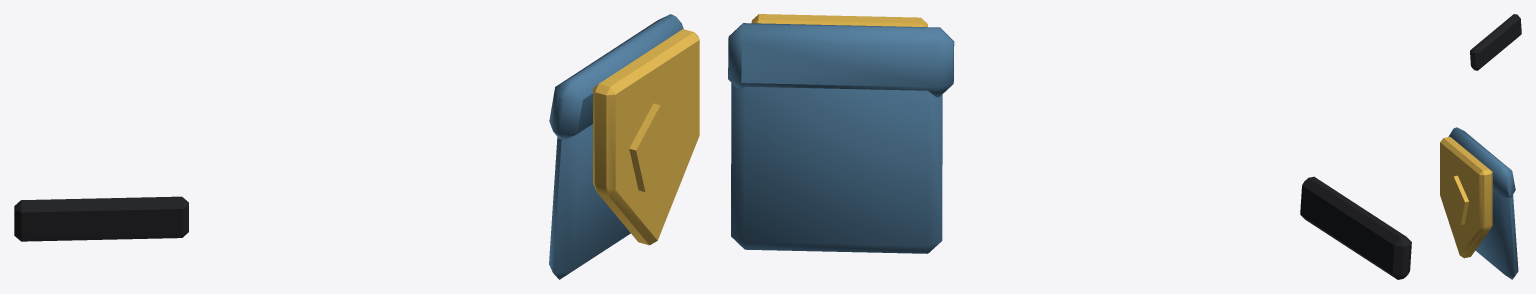
Rendered from Char_Top_Badge.fbx.
The picture shows the model from 3 angles, left to right: view 1: azimuth 30°, elevation 25°; view 2: azimuth 150°, elevation 25°; view 3: azimuth 270°, elevation 25°; orthographic projection. The views are drawn at different scales.
Parts seen in each view (by area): view 1: Badge, Pocket, NameBar; view 2: Pocket, NameBar, Badge; view 3: Badge, Pocket, NameBar.
Boxes of the visible parts, x1,y1,x2,y2 form: Badge: (593, 29, 699, 245); Pocket: (549, 14, 683, 279); NameBar: (14, 196, 188, 241); Pocket: (728, 23, 954, 253); NameBar: (1300, 176, 1411, 279); Badge: (751, 14, 927, 27); Badge: (1440, 136, 1492, 258); Pocket: (1448, 127, 1518, 279); NameBar: (1470, 14, 1521, 70).
Size of the model in its own units: 113 by 33.97 by 21.76.
